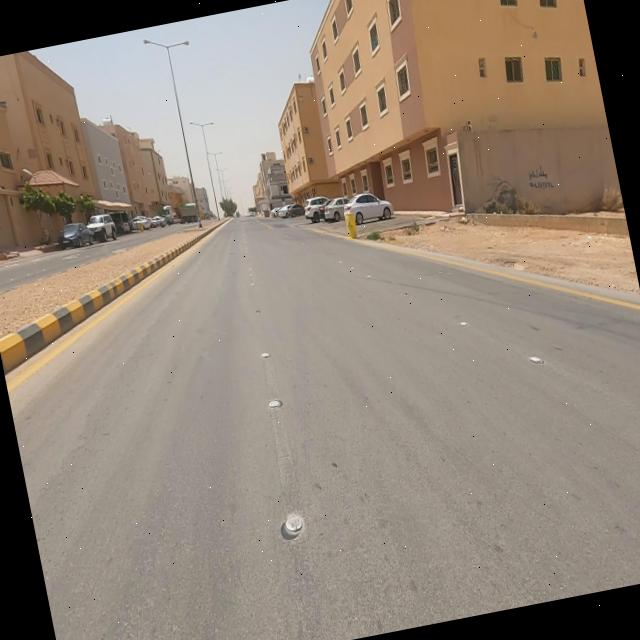Graffiti: (527, 163, 556, 195)
